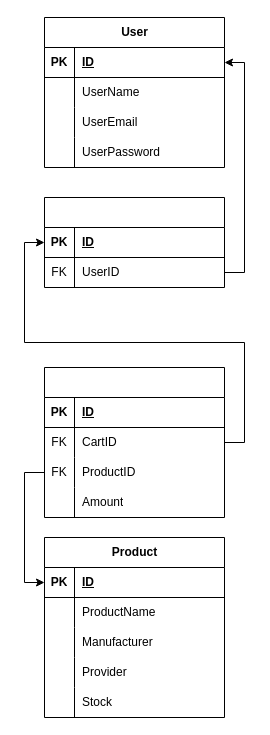
The diagram is 270 pixels wide and 735 high, and some of its shapes have lost their labels. Here are the shapes that lost their labels. From the top down, the box of each, then its label:
(44, 196, 224, 288): Cart
(44, 366, 224, 518): CartItem
